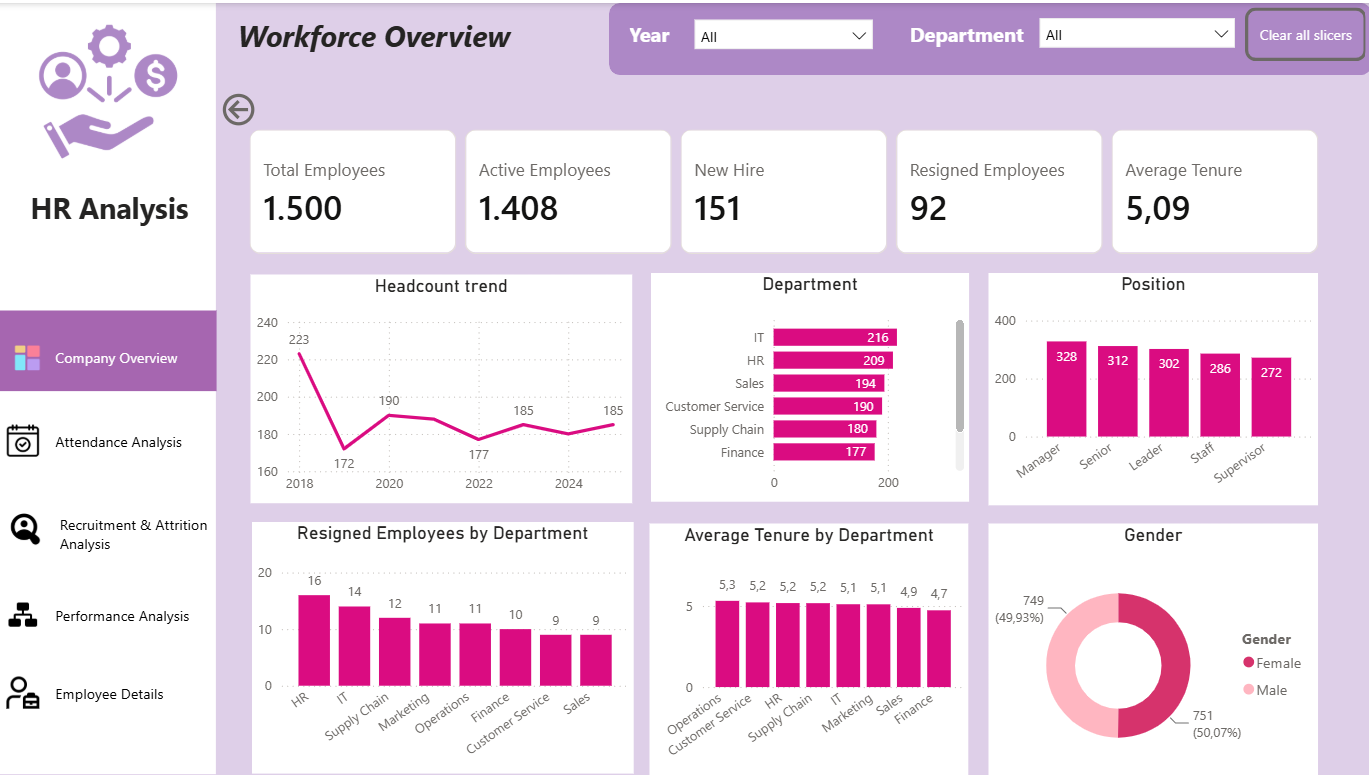

The dashboard page shown, as its layout file describes it:
{"tool":"powerbi","page":{"name":"Workforce Overview","canvas":[1280,720],"ordinal":1},"visuals":[{"type":"shape","box":[567.8,0,712.2,67.2],"z":0},{"type":"shape","box":[0,286.2,202.1,75.2],"z":0,"group":"g1"},{"type":"textbox","box":[216.3,6.3,305.9,77.2],"z":1000},{"type":"image","box":[4.5,317.7,42.4,24],"z":1000,"group":"g1"},{"type":"image","box":[0,392.5,42.4,30.3],"z":1000,"group":"g2"},{"type":"image","box":[0,476.5,47.4,30.3],"z":1000,"group":"g3"},{"type":"image","box":[0,554.5,42.4,30.3],"z":1000,"group":"g4"},{"type":"image","box":[0,627.4,42.4,30.3],"z":1000,"group":"g5"},{"type":"slicer","fields":{"Values":["Dim_Date.Year"]},"box":[637.5,6.1,185.9,62.9],"z":2000},{"type":"actionButton","box":[46.9,304.5,131.7,50.5],"z":2000,"group":"g1"},{"type":"actionButton","box":[46.9,376.2,156,63.6],"z":2000,"group":"g2"},{"type":"actionButton","box":[51.5,467.9,151.4,54.5],"z":2000,"group":"g3"},{"type":"actionButton","box":[46.9,537.9,156,63.6],"z":2000,"group":"g4"},{"type":"actionButton","box":[46.9,610.8,156,63.6],"z":2000,"group":"g5"},{"type":"image","box":[41.1,175.3,42.4,30.3],"z":3000},{"type":"shape","box":[0,0,201.4,719.2],"z":4000},{"type":"textbox","box":[12.1,168.1,178.8,45.8],"z":5000},{"type":"slicer","fields":{"Values":["Department.Department"]},"box":[960,4.5,202.1,63.2],"z":6000},{"type":"lineChart","title":"Headcount trend","fields":{"Y":["CountNonNull(Employees.EmployeeID)"],"Category":["Dim_Date.Year"]},"box":[234.2,252.9,355.8,213.5],"z":7000},{"type":"donutChart","title":"Gender","fields":{"Category":["Employees.Gender"],"Y":["CountNonNull(Employees.EmployeeID)"]},"box":[922.5,484.8,307.5,234.5],"z":8000},{"type":"clusteredBarChart","title":"Department","fields":{"Category":["Department.Department"],"Y":["CountNonNull(Employees.EmployeeID)"]},"box":[606.7,251.9,296.8,213.5],"z":9000},{"type":"clusteredColumnChart","title":"Position","fields":{"Category":["Employees.Position"],"Y":["CountNonNull(Employees.EmployeeID)"]},"box":[922.2,251.4,307.4,216.5],"z":10000},{"type":"group","id":"g1","title":"OG1","box":[0,286.2,201.4,77.2],"z":11000},{"type":"columnChart","fields":{"Category":["Department.Department"],"Y":["KPI Table.Resigned Employees"]},"box":[234.7,484.5,355.8,234.7],"z":12000},{"type":"lineClusteredColumnComboChart","fields":{"Category":["Department.Department"],"Y":["KPI Table.Average Tenure"]},"box":[606.4,484.8,297.5,234.5],"z":13000},{"type":"cardVisual","fields":{"Data":["KPI Table.Total Employees","KPI Table.Active Employees","KPI Table.New Hire YOY","KPI Table.Resigned Employees","KPI Table.Average Tenure"]},"box":[216,100.1,1031.2,150.2],"z":14000},{"type":"textbox","box":[843.4,10.6,117.3,57.2],"z":15000},{"type":"textbox","box":[581.5,10.6,58.6,57.2],"z":16000},{"type":"group","id":"g2","title":"OG1","box":[0,376.2,202.9,63.6],"z":17000},{"type":"group","id":"g3","title":"OG1","box":[0,467.9,202.9,54.5],"z":18000},{"type":"group","id":"g4","title":"OG1","box":[0,537.9,202.6,64.1],"z":19000},{"type":"image","box":[33.3,13.6,134.8,137.8],"z":20000},{"type":"actionButton","box":[1161.4,4.5,113.6,50],"z":21000},{"type":"group","id":"g5","title":"OG1","box":[0,610.8,202.6,64.1],"z":22000},{"type":"actionButton","box":[202.6,80.2,46.7,39.4],"z":23000}]}

Visuals, with their boxes in screenshot pixels (x1, y1, x2, y2), scaled from the page's 1280x720 canvas onto the 1369x775 screenshot:
shape: BBox(607, 0, 1368, 72)
shape: BBox(0, 308, 216, 389)
textbox: BBox(231, 7, 559, 90)
image: BBox(5, 342, 50, 368)
image: BBox(0, 422, 45, 455)
image: BBox(0, 513, 51, 546)
image: BBox(0, 597, 45, 629)
image: BBox(0, 675, 45, 708)
slicer - Dim_Date.Year: BBox(682, 7, 881, 74)
actionButton: BBox(50, 328, 191, 382)
actionButton: BBox(50, 405, 217, 473)
actionButton: BBox(55, 504, 217, 562)
actionButton: BBox(50, 579, 217, 647)
actionButton: BBox(50, 657, 217, 726)
image: BBox(44, 189, 89, 221)
shape: BBox(0, 0, 215, 774)
textbox: BBox(13, 181, 204, 230)
slicer - Department.Department: BBox(1027, 5, 1243, 73)
"Headcount trend" lineChart: BBox(250, 272, 631, 502)
"Gender" donutChart: BBox(987, 522, 1316, 774)
"Department" clusteredBarChart: BBox(649, 271, 966, 501)
"Position" clusteredColumnChart: BBox(986, 271, 1315, 504)
"OG1" group: BBox(0, 308, 215, 391)
columnChart - Department.Department x KPI Table.Resigned Employees: BBox(251, 522, 632, 774)
lineClusteredColumnComboChart - Department.Department x KPI Table.Average Tenure: BBox(649, 522, 967, 774)
cardVisual - KPI Table.Total Employees x KPI Table.Active Employees: BBox(231, 108, 1334, 269)
textbox: BBox(902, 11, 1027, 73)
textbox: BBox(622, 11, 685, 73)
"OG1" group: BBox(0, 405, 217, 473)
"OG1" group: BBox(0, 504, 217, 562)
"OG1" group: BBox(0, 579, 217, 648)
image: BBox(36, 15, 180, 163)
actionButton: BBox(1242, 5, 1364, 59)
"OG1" group: BBox(0, 657, 217, 726)
actionButton: BBox(217, 86, 267, 129)
